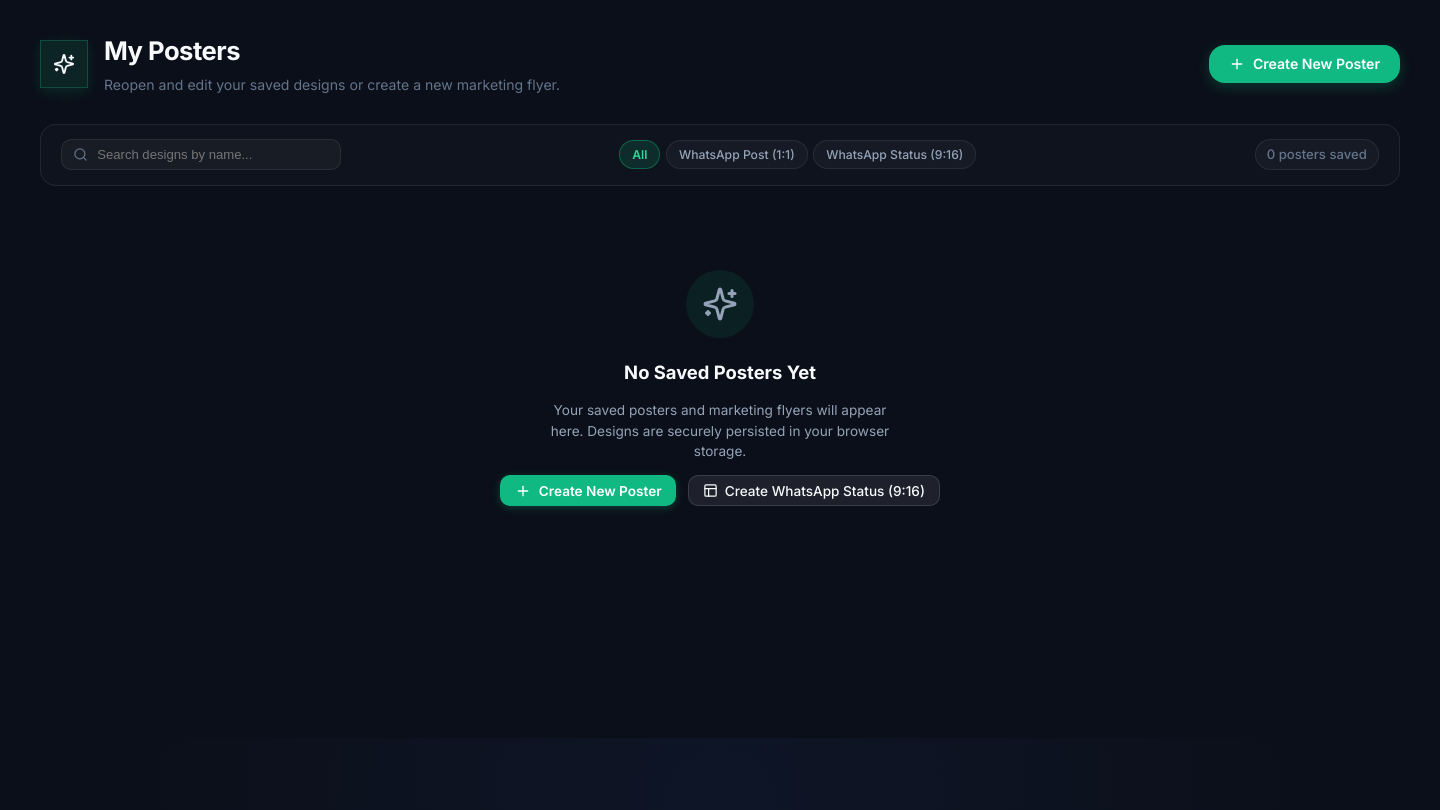
Test: Phase 3C: User Isolation & Empty Initial State Tests › 3. clicking Create New Poster opens a fresh editor without saving to IndexedDB
Expected: the heading "No Saved Posters Yet" is shown, [624,359,816,387]
Note: Click the empty state action button
Click the button "Create New Poster" below "No Saved Posters Yet" at (588, 491), box [500,475,676,506]
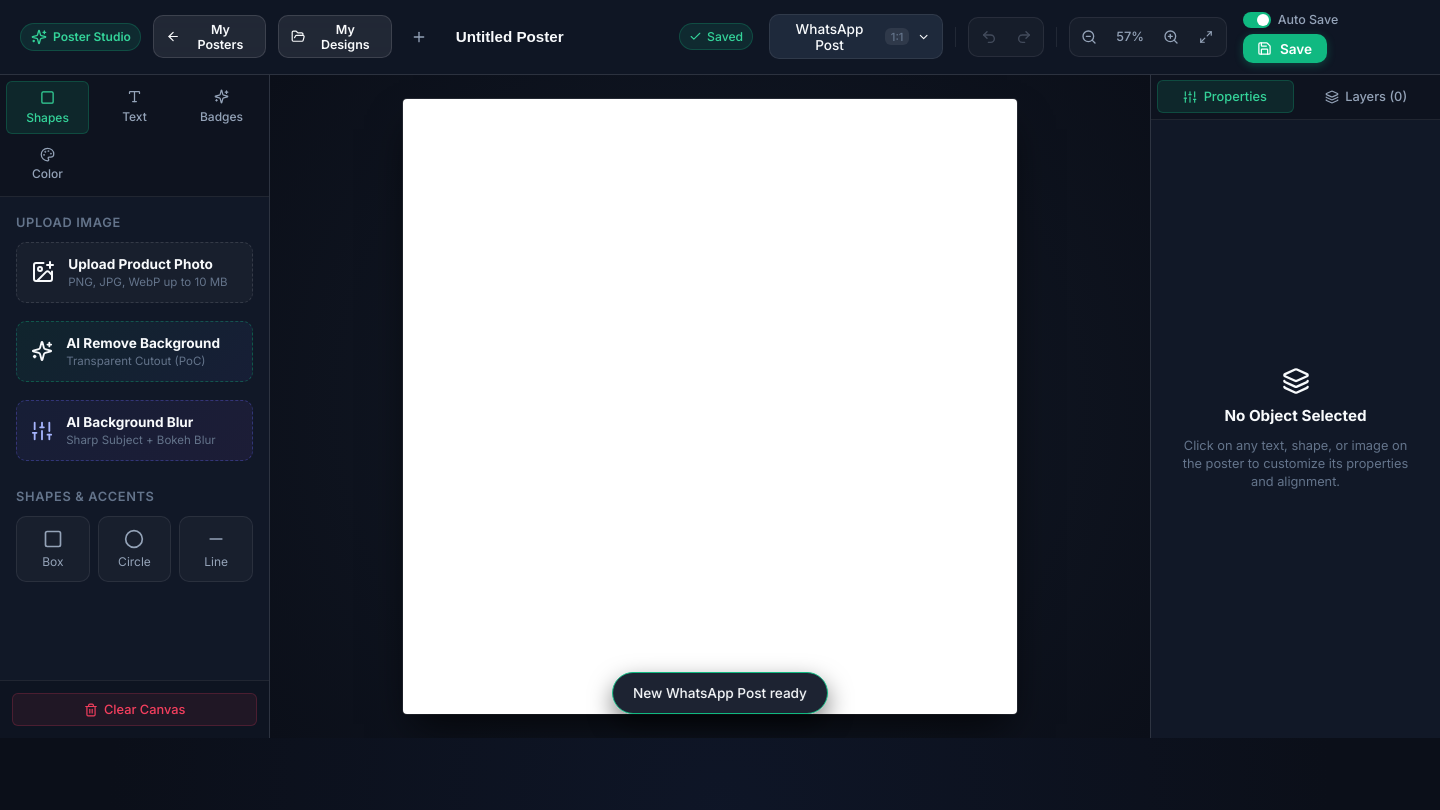
Expected: the button with aria-label "Back to My Posters" is shown, [154,15,266,58]
Now the field named "Poster project title" is shown, box [447,23,667,50]
